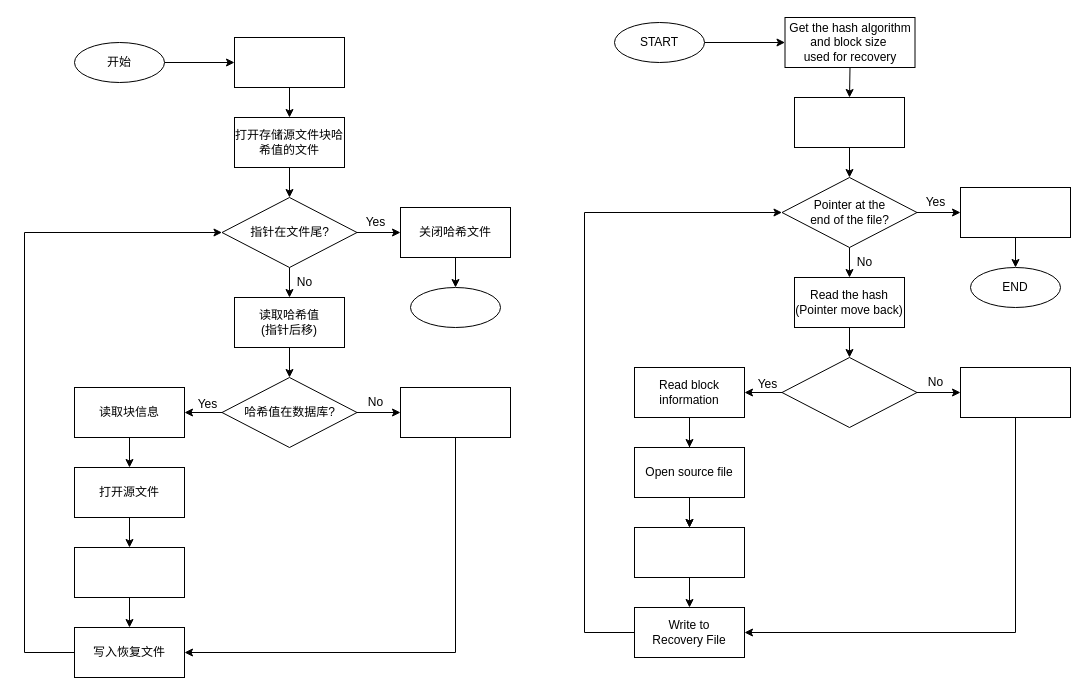
Image size: 1088x695. Some labels were removed from this diagram. Each missing label, with the centre of its shape:
"Close hash file" belongs at pixel 1015 212.
"Generate a fixed blank block" belongs at pixel 1015 392.
"Hash value in database?" belongs at pixel 849 392.
"Open the file storing the source file block hashes" belongs at pixel 849 122.
"Read the source data of the corresponding block" belongs at pixel 689 552.
"生成固定空白块" belongs at pixel 455 412.
"结束" belongs at pixel 455 307.
"获取恢复所用的 哈希算法和块大小" belongs at pixel 289 62.
"读取对应块的源数据" belongs at pixel 129 572.
